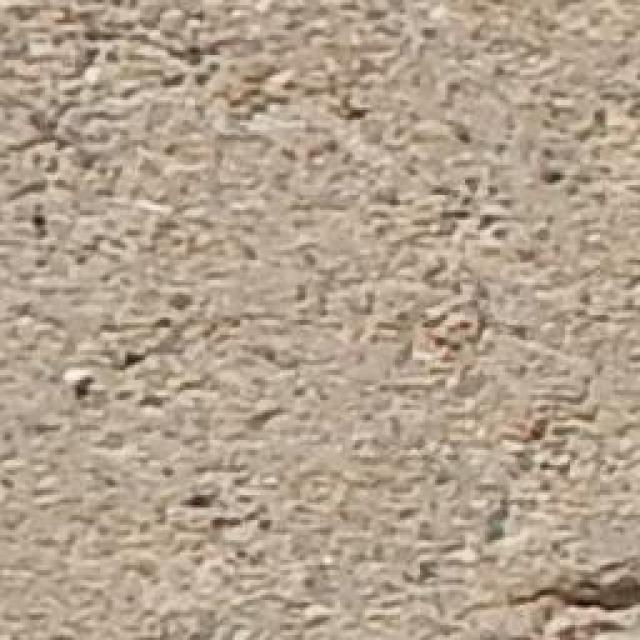concrete-crack: (414, 584, 636, 636)
